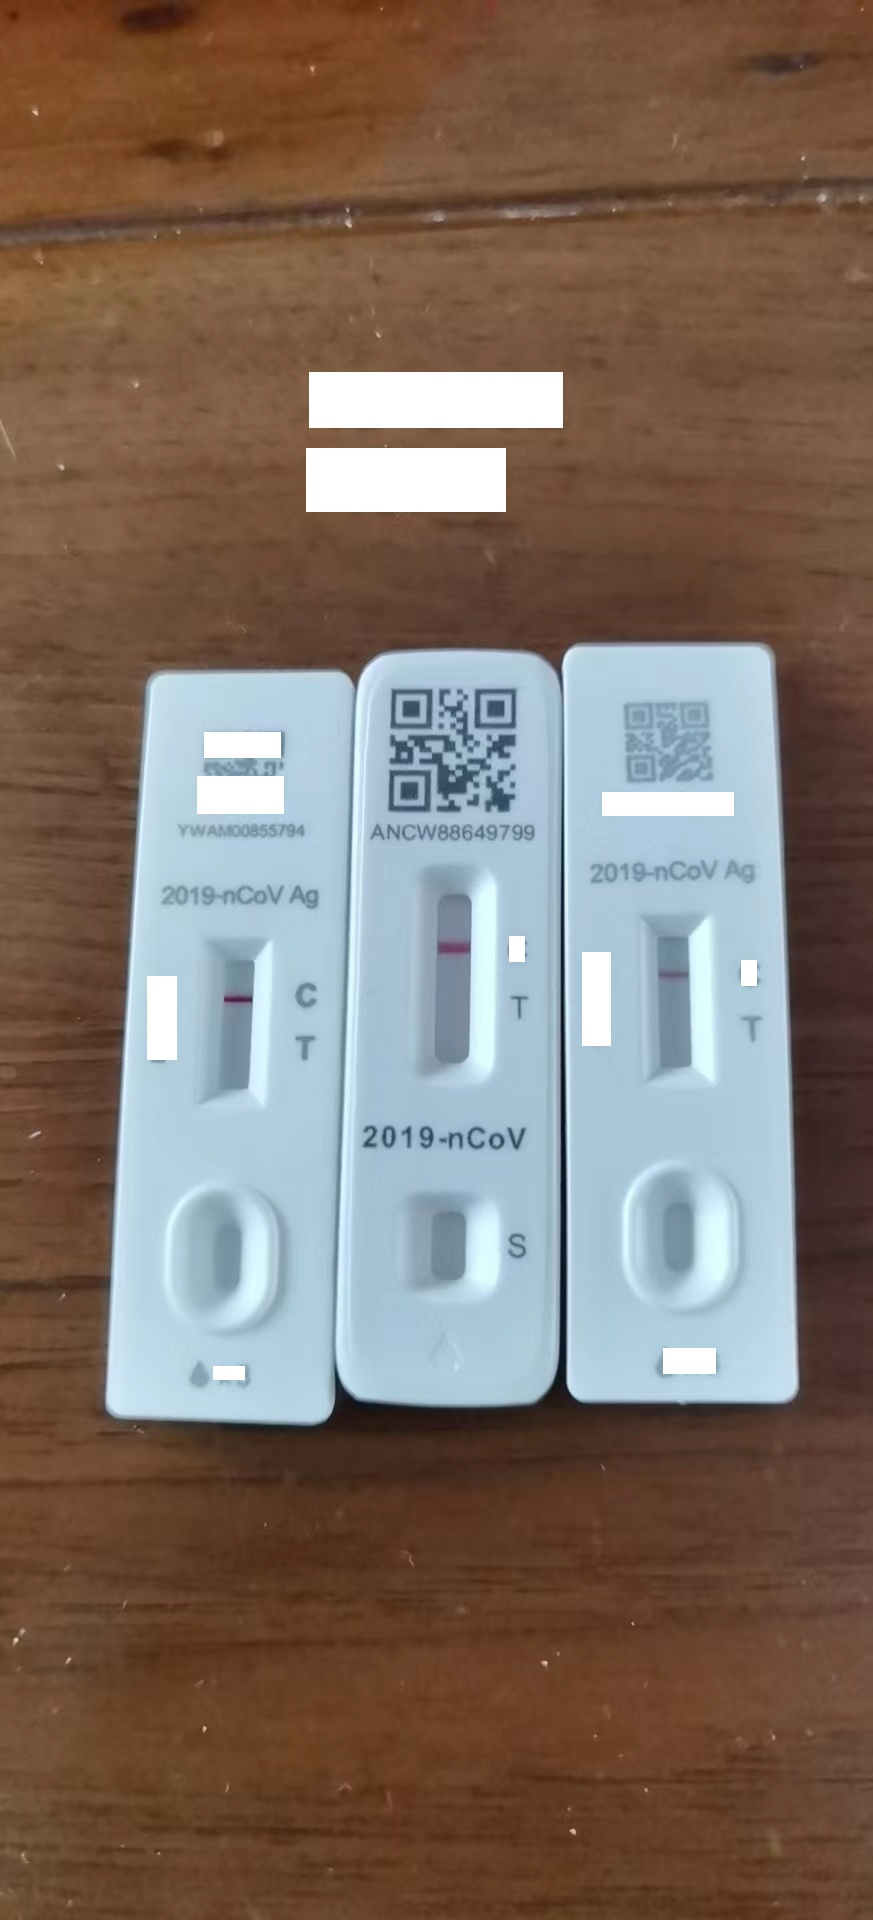negative: (413, 862, 495, 1089), (635, 907, 713, 1089), (195, 934, 268, 1112)
